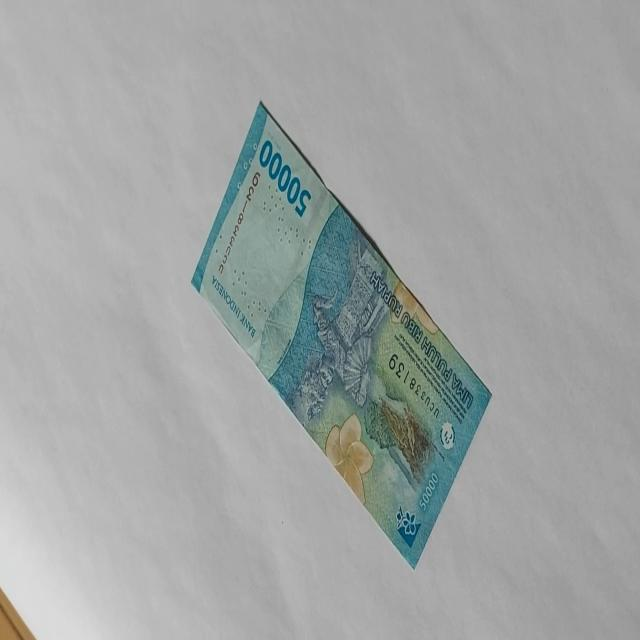lima puluh ribu rupiah: (190, 99, 493, 570), (258, 136, 312, 220)
